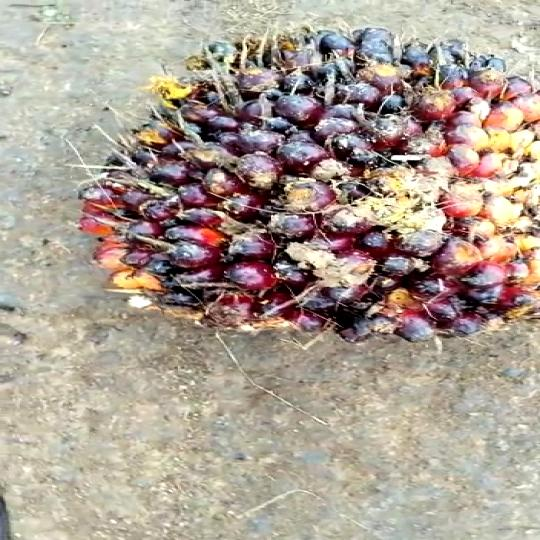kurang masak: (93, 36, 540, 342)
